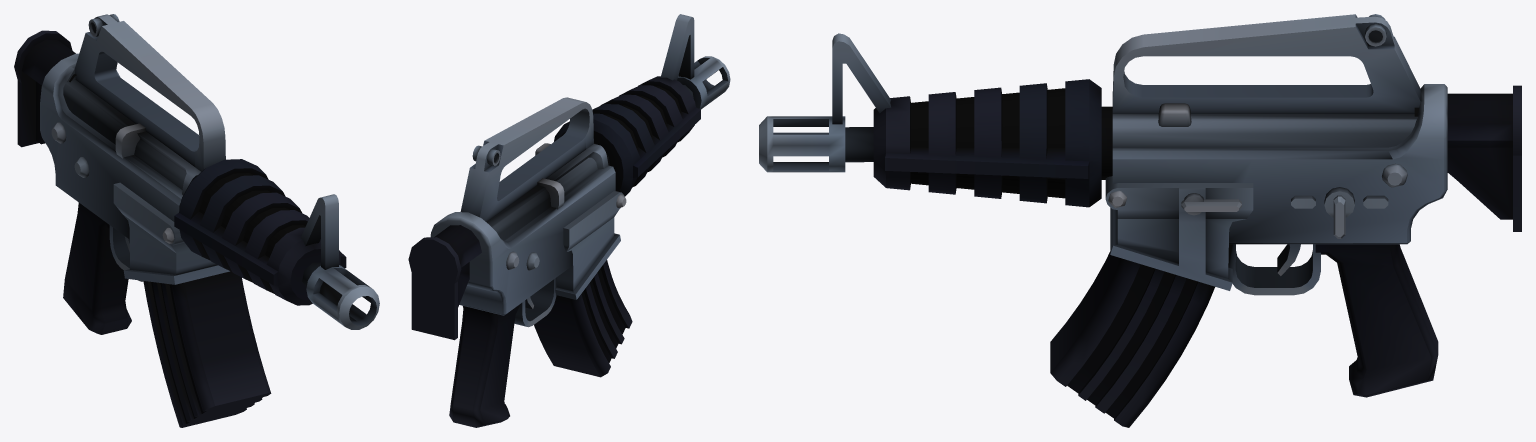
The model's file is FireArms_Assault_Rifle_A.gltf.
3 views of the same model, side by side, from view 1: azimuth 30°, elevation 25°; view 2: azimuth 150°, elevation 25°; view 3: azimuth 270°, elevation 25° (orthographic). The views are drawn at different scales.
Parts seen in each view (by area): view 1: FireArms_Assault_Rifle_A; view 2: FireArms_Assault_Rifle_A; view 3: FireArms_Assault_Rifle_A.
Boxes of the visible parts, x1,y1,x2,y2 form: FireArms_Assault_Rifle_A: (14,14,379,427); FireArms_Assault_Rifle_A: (408,14,730,427); FireArms_Assault_Rifle_A: (759,14,1521,427).
Size of the model in its own units: 0.2284 by 0.6659 by 1.17.
2 materials, 2 textured.
